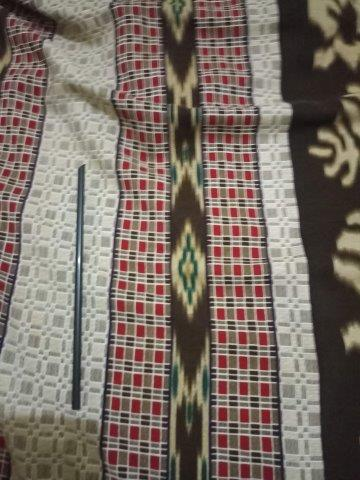sedotan: (72, 165, 86, 409)
